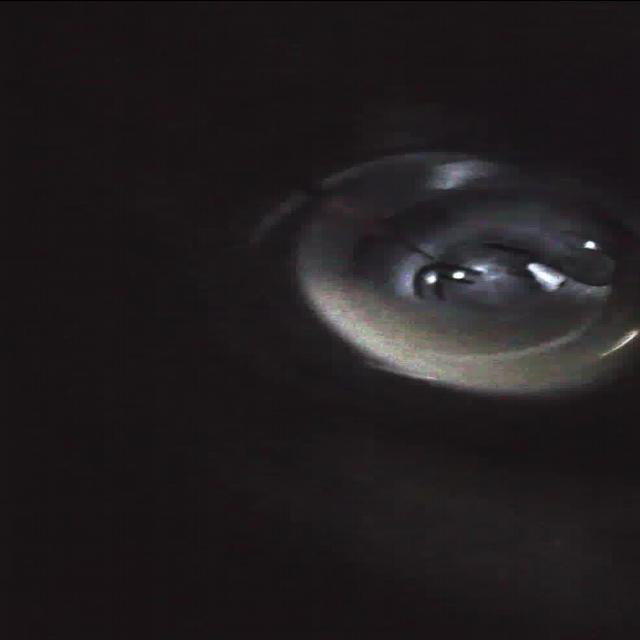impurity: (563, 248, 622, 292), (522, 255, 566, 292)
